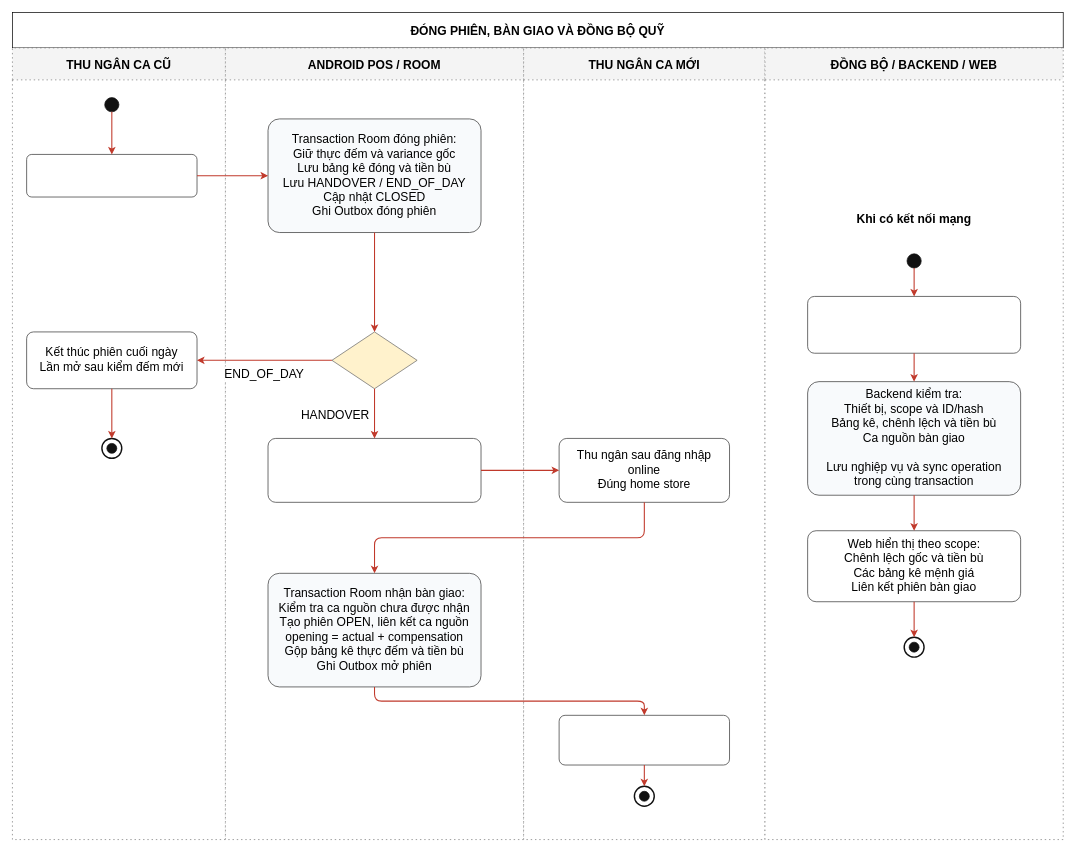
The diagram is 1076 pixels wide and 852 high, and some of its shapes have lost their labels. The shapes that lost their labels are listed below. From the top down, each one's centre as x and y in pixels, then its label:
At [111,175]: "Xác nhận đóng phiên Từ trang 1".
At [914,324]: "Gửi Outbox quỹ theo FIFO Đóng phiên trước, mở phiên sau Retry cùng operation ID".
At [374,360]: "Loại đóng phiên?".
At [374,470]: "Giữ phiên CLOSED / HANDOVER Chờ thu ngân sau nhận quỹ".
At [644,740]: "Tiếp tục bán hàng Không kiểm đếm lại quỹ bàn giao".
